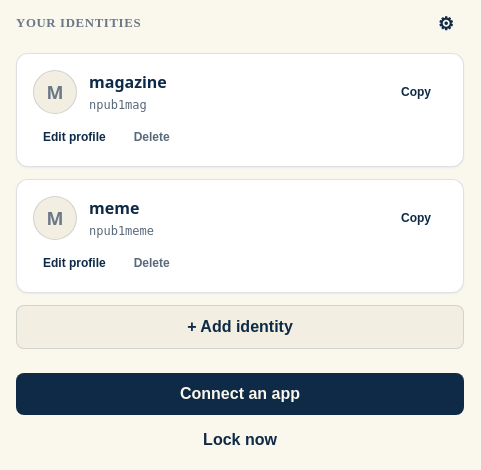
Test: Home › cancel on the delete confirm hides the prompt
The width and height of the screenshot is (481, 470).
Step 1. Click the button "Delete" below "npub1mag" → click(152, 137), box [124,124,180,150]
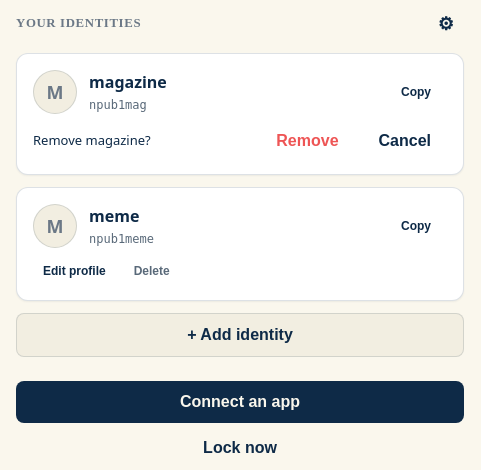
Result: the text "Remove magazine?" is shown at [33,131,151,149]
Step 2. Click the button "Cancel" → click(405, 141), box [362,124,447,158]
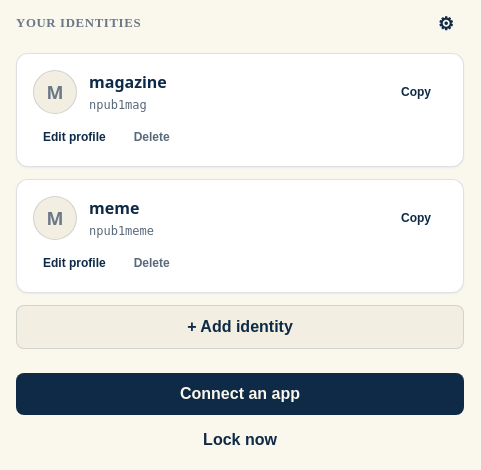
Expected: the number of buttons "Delete" is 2, [124,124,180,150]; [124,250,180,276]
Result: the text "Remove magazine?" is gone
